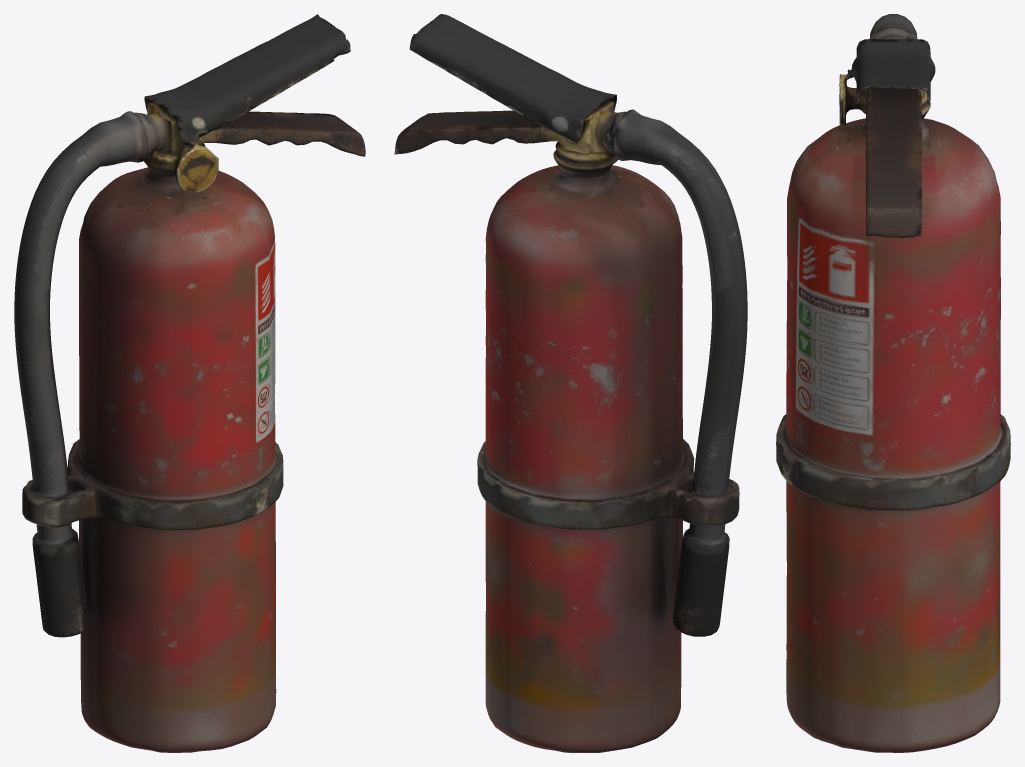
Rendered from Meshy_AI_Old_Fire_Extinguisher_0304201759_texture.obj.
3 views of the same model, side by side, from view 1: azimuth 30°, elevation 25°; view 2: azimuth 150°, elevation 25°; view 3: azimuth 270°, elevation 25° (orthographic). The views are drawn at different scales.
Visible parts, largest first — view 1: Meshy_AI_Old_Fire_Extinguisher_0304201759_texture; view 2: Meshy_AI_Old_Fire_Extinguisher_0304201759_texture; view 3: Meshy_AI_Old_Fire_Extinguisher_0304201759_texture.
Part boxes in pixels (x1,y1,x2,y2): Meshy_AI_Old_Fire_Extinguisher_0304201759_texture: (14, 14, 365, 752); Meshy_AI_Old_Fire_Extinguisher_0304201759_texture: (394, 14, 747, 752); Meshy_AI_Old_Fire_Extinguisher_0304201759_texture: (776, 14, 1010, 752).
Bounding box in the file's own units: 0.54 × 1 × 0.3006.
1 material, 1 textured.
